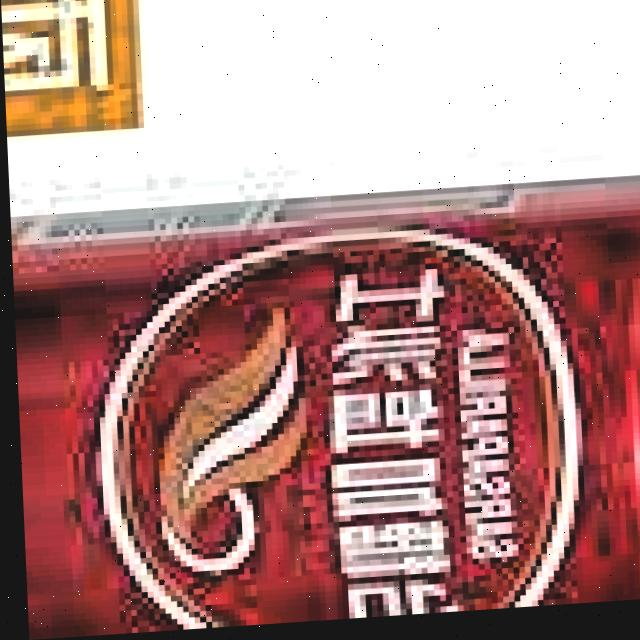metal: (6, 149, 640, 640)
